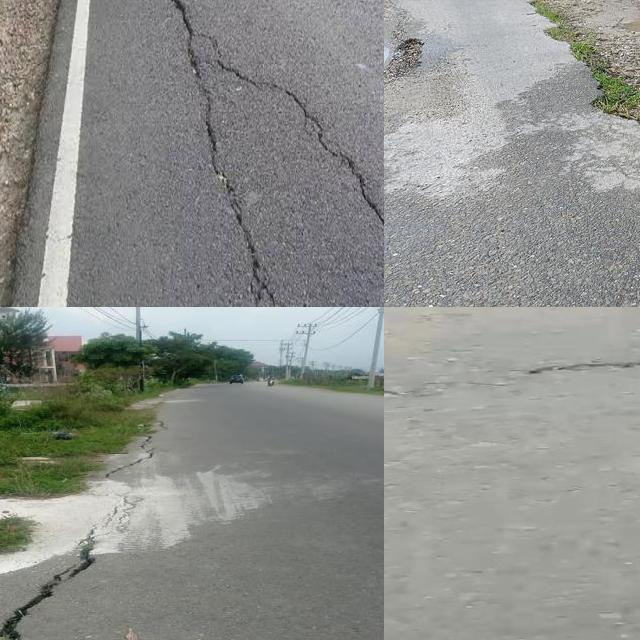Melintang: (384, 349, 640, 415)
Memanjang: (160, 0, 278, 307), (219, 41, 384, 257), (0, 525, 108, 640)
Pinggir: (505, 0, 640, 167)
